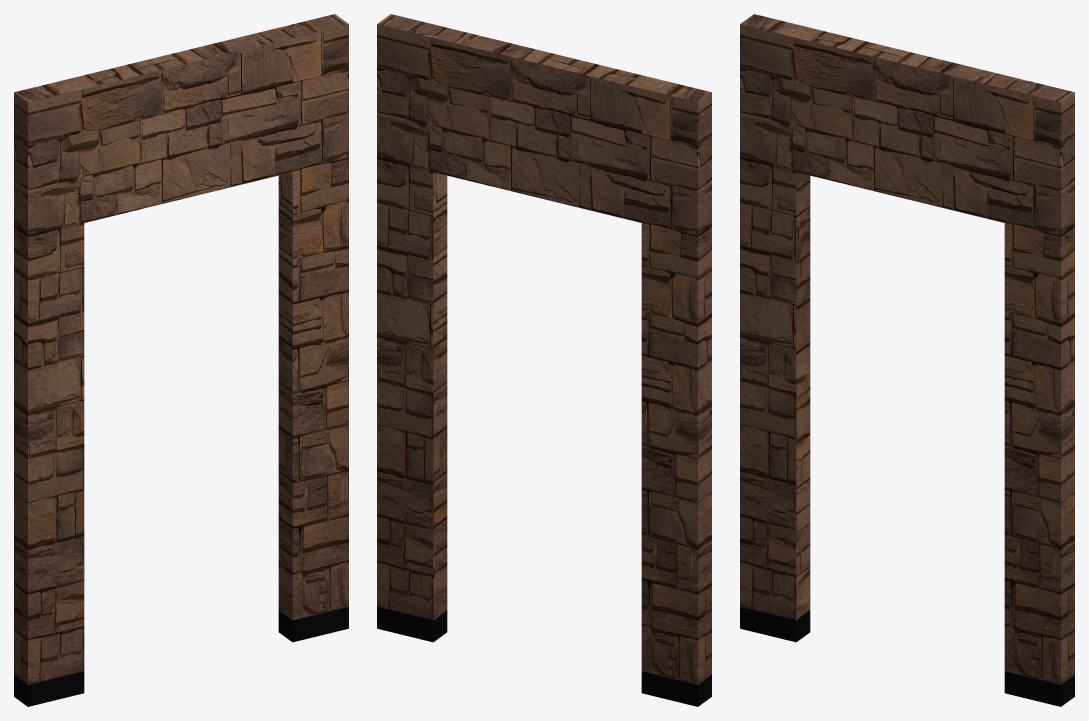
Rendered from ARC0210007.fbx.
The picture shows the model from 3 angles, left to right: view 1: azimuth 30°, elevation 25°; view 2: azimuth 150°, elevation 25°; view 3: azimuth 330°, elevation 25°; orthographic projection.
Parts seen in each view (by area): view 1: smARC0210007; view 2: smARC0210007; view 3: smARC0210007.
Boxes of the visible parts, x1,y1,x2,y2 form: smARC0210007: (14,14,348,706); smARC0210007: (377,14,711,706); smARC0210007: (740,14,1074,706).
Bounding box in the file's own units: 182 × 328 × 13.67.
Materials: 1 (1 with a texture image).
